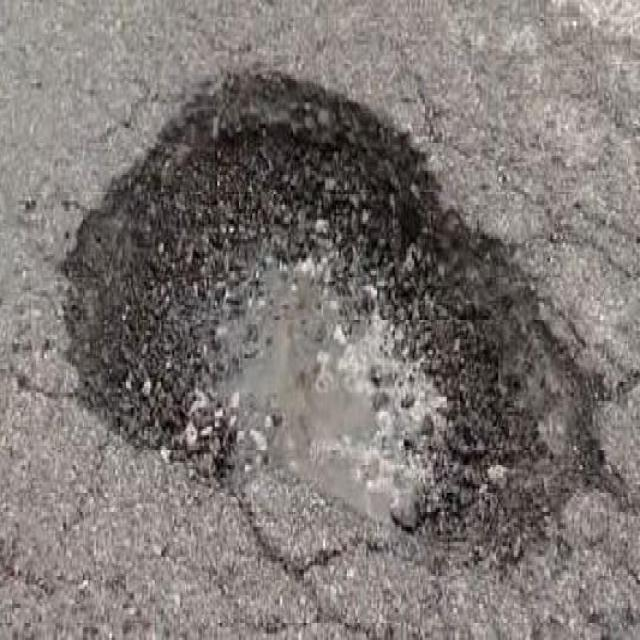pothole: (54, 56, 615, 578)
